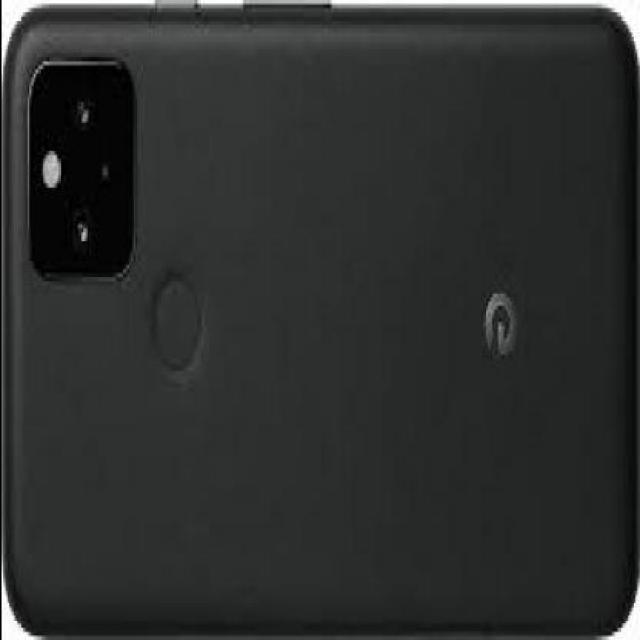phone: (2, 5, 636, 636)
